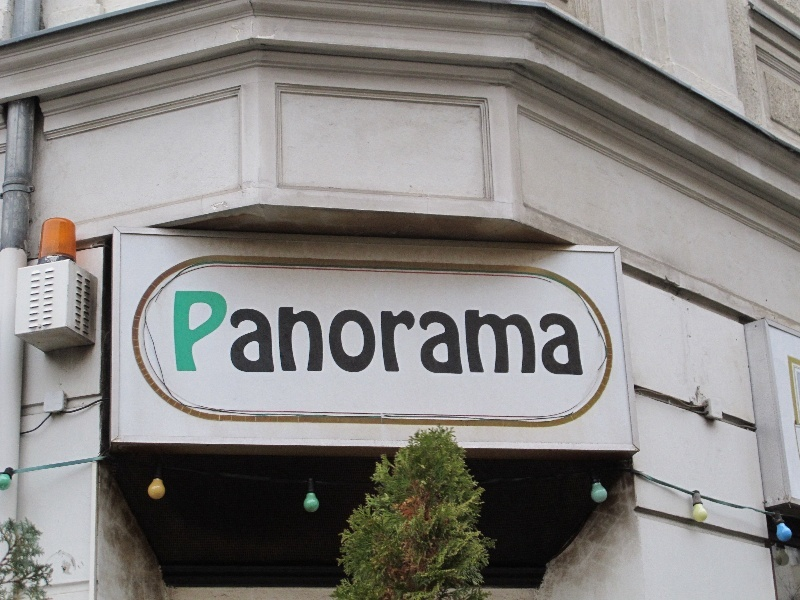text: (177, 292, 192, 375), (193, 292, 208, 375), (209, 292, 224, 375), (225, 292, 240, 375), (241, 292, 256, 375), (257, 292, 272, 375), (273, 292, 288, 375), (289, 292, 304, 375), (305, 292, 320, 375), (321, 292, 336, 375), (337, 292, 352, 375), (353, 292, 368, 375), (369, 292, 384, 375), (385, 292, 400, 375), (401, 292, 416, 375), (417, 292, 432, 375), (433, 292, 448, 375), (449, 292, 464, 375), (465, 292, 480, 375), (481, 292, 496, 375), (497, 292, 512, 375), (513, 292, 528, 375), (529, 292, 544, 375), (545, 292, 560, 375), (561, 292, 576, 375), (577, 292, 585, 375), (175, 292, 176, 375)
